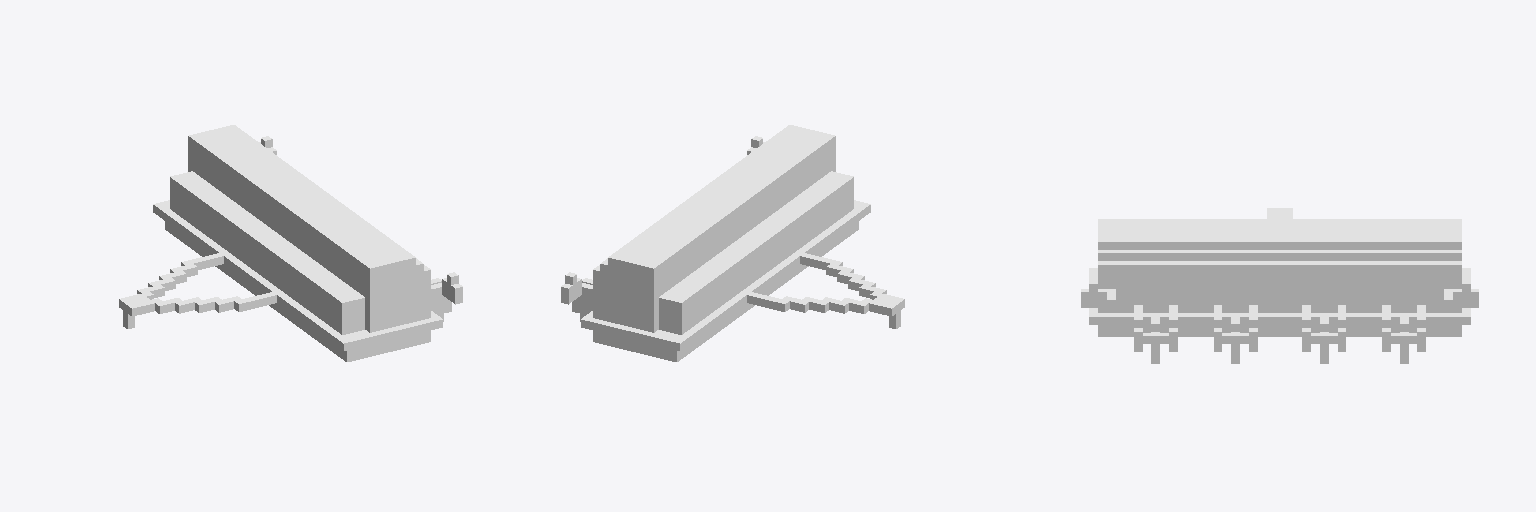
Rendered from Cereals.obj.
The picture shows the model from 3 angles: view 1: azimuth 30°, elevation 25°; view 2: azimuth 150°, elevation 25°; view 3: azimuth 270°, elevation 25°; orthographic projection.
Parts seen in each view (by area): view 1: Cereals; view 2: Cereals; view 3: Cereals.
Boxes of the visible parts, x1=… form: Cereals: x1=119, y1=125, x2=462, y2=361; Cereals: x1=561, y1=125, x2=904, y2=361; Cereals: x1=1081, y1=208, x2=1478, y2=363.
Bounding box in the file's own units: 34 × 12 × 45.